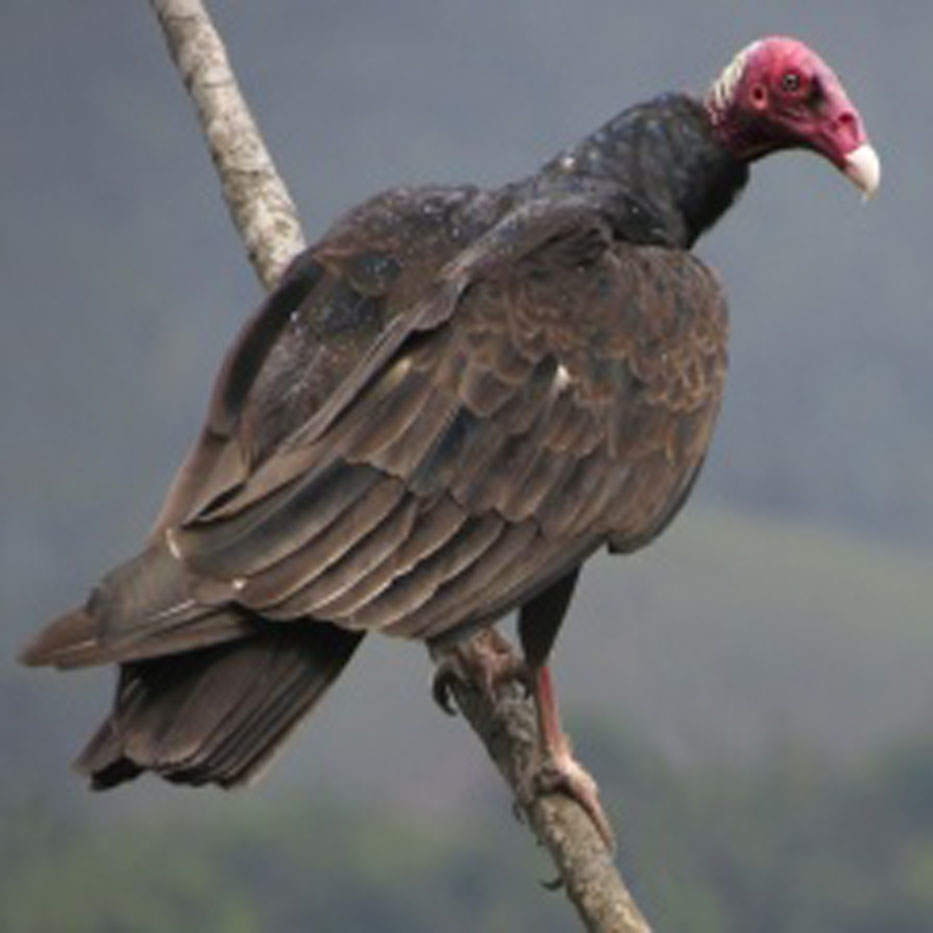Pengoyak Daging: (842, 140, 895, 215)
